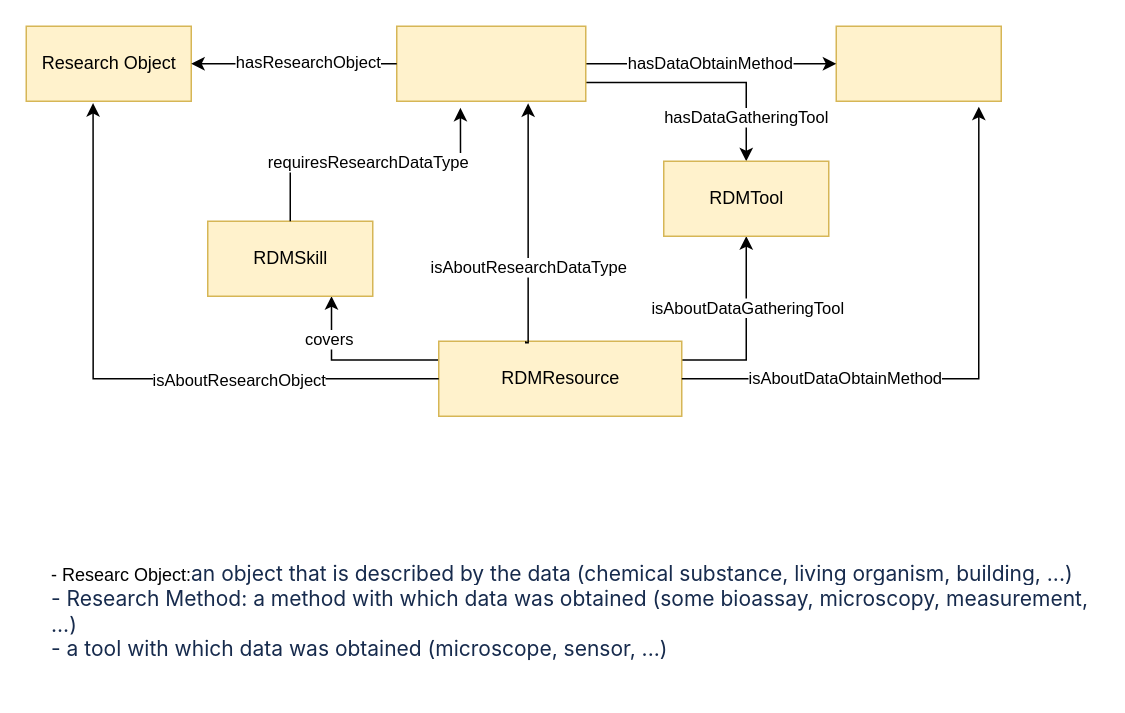
Image size: 1125x713. Some labels were removed from this diagram. Here are the shapes that lost their labels. From the top down, the box of each, then its label:
(395, 25, 586, 101): ResearchDataType
(835, 25, 1001, 101): Research Method
